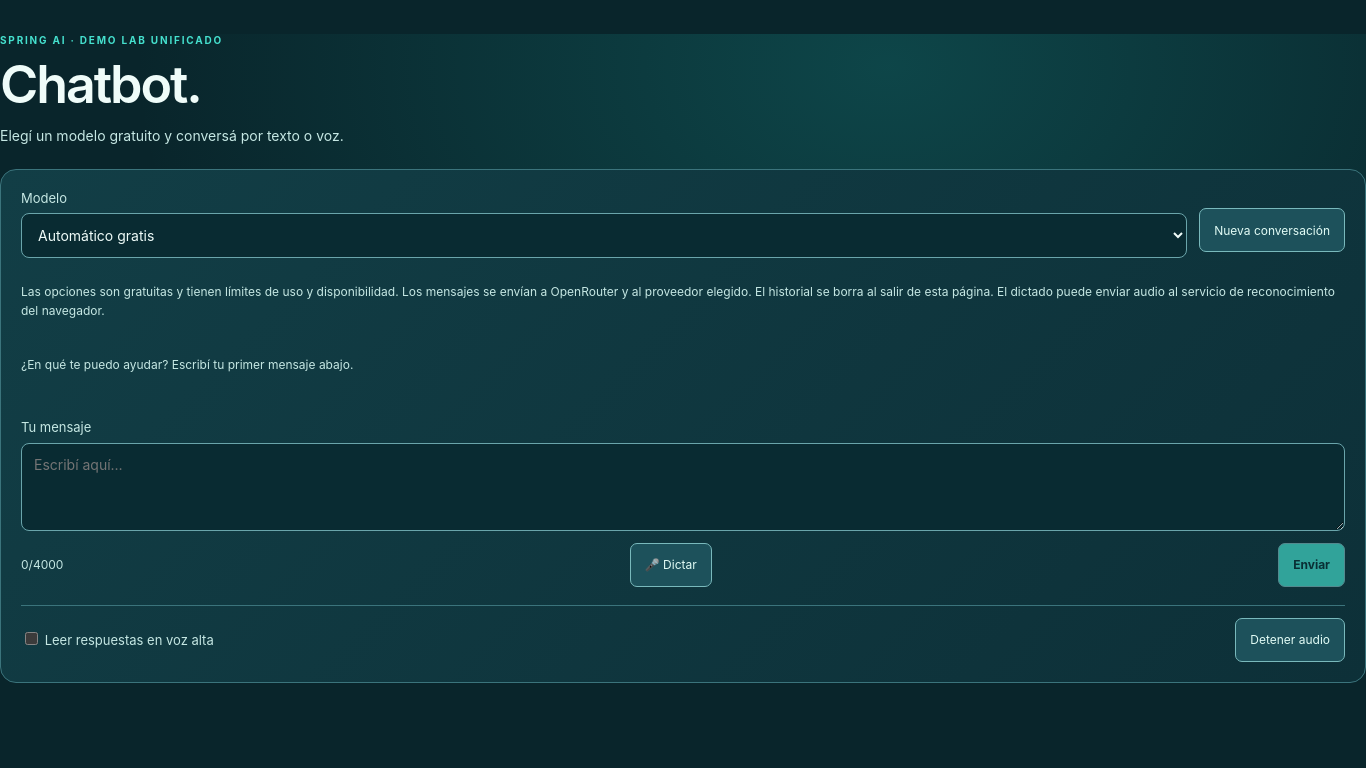
Test: dictates editable text, reads replies and cleans up voice
The image size is (1366, 768).
Click the button "🎤 Dictar" at x=671, y=565, box top-left (630, 543), bottom-right (712, 587)
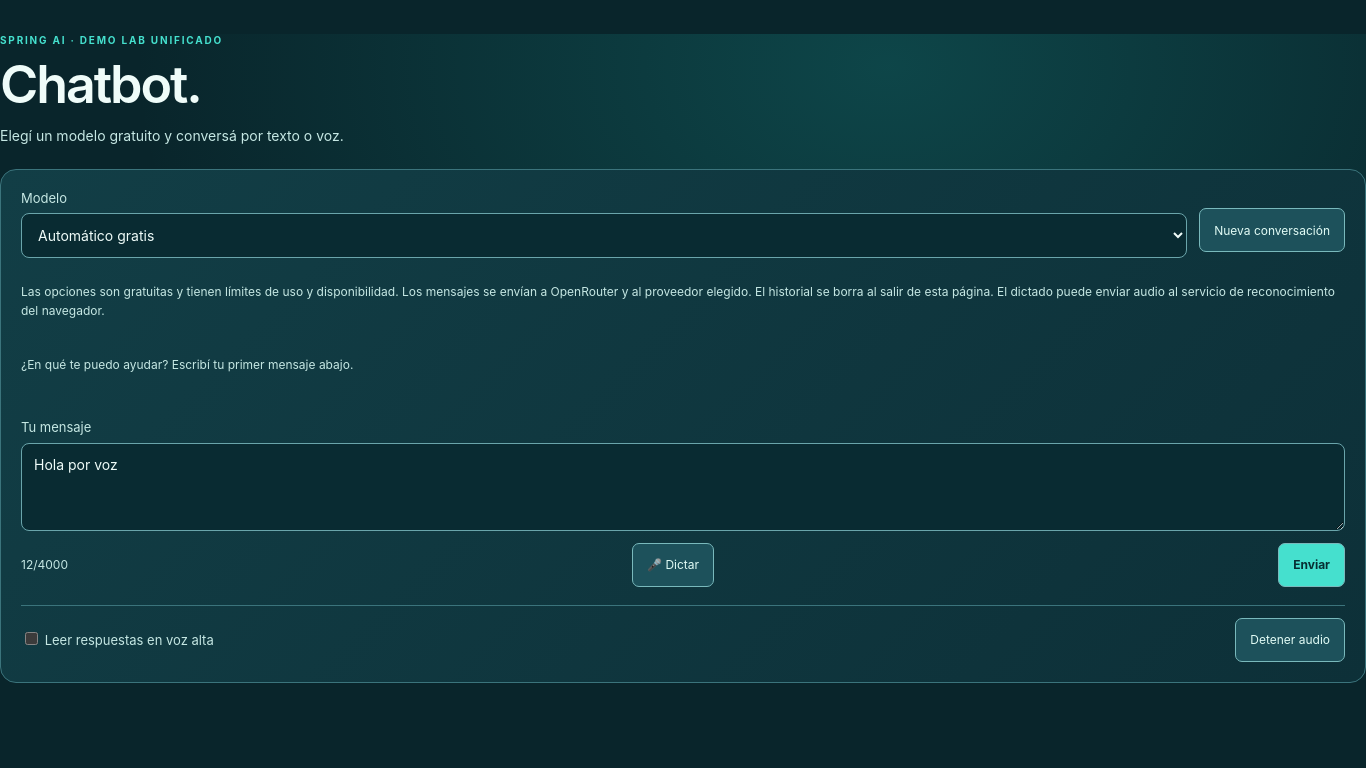
Now the text box labelled "Tu mensaje" holds "Hola por voz", box top-left (21, 443), bottom-right (1345, 531)
Click the checkbox labelled "Leer respuestas en voz alta" at x=32, y=638, box top-left (25, 632), bottom-right (38, 645)
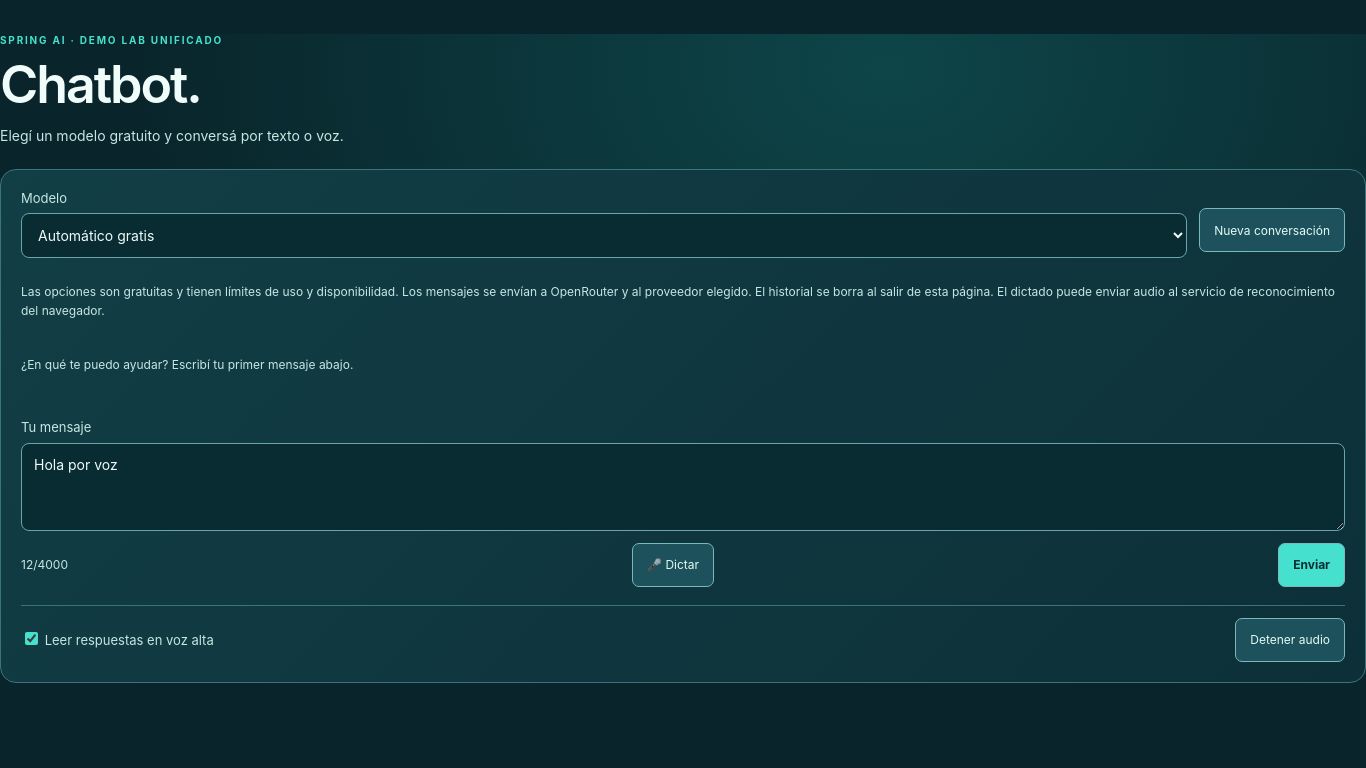
Click the button "Enviar" at x=1312, y=565, box top-left (1278, 543), bottom-right (1345, 587)
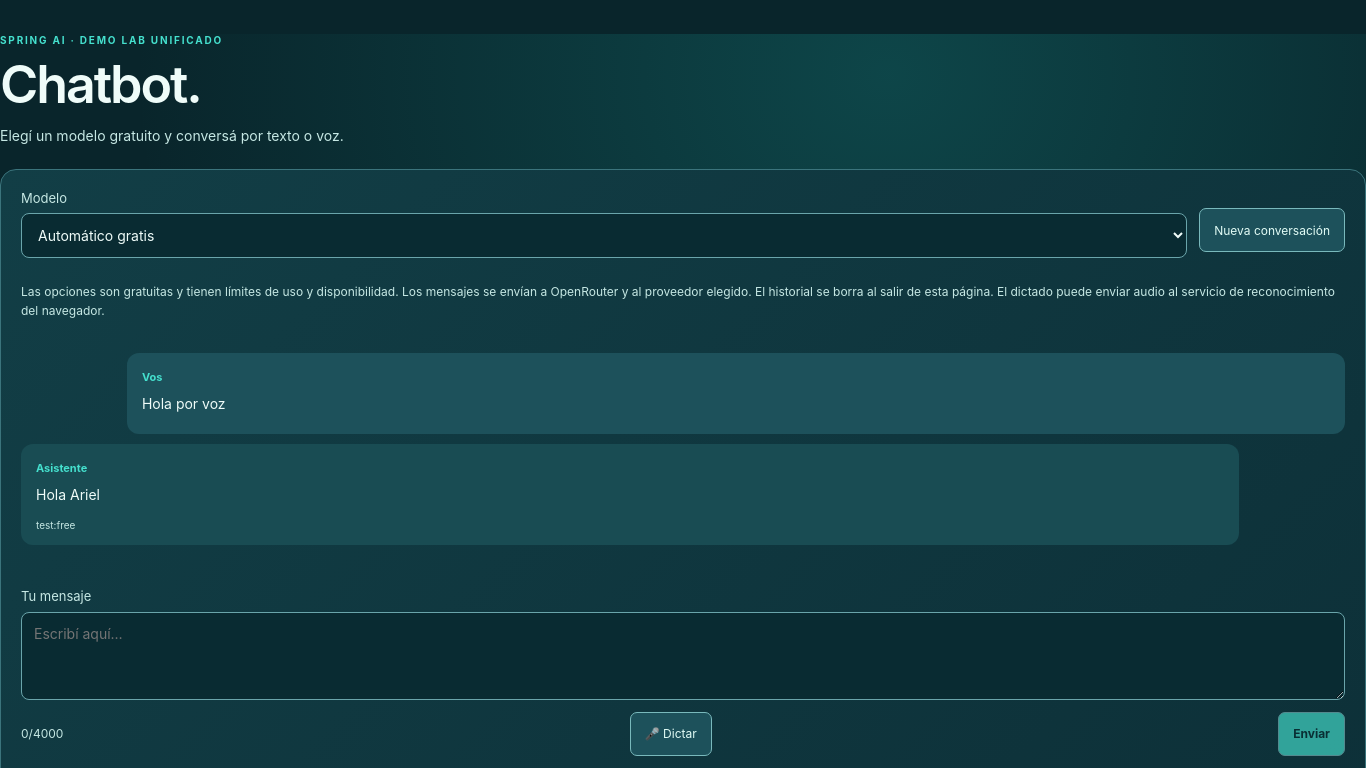
Now the text "Hola Ariel" is shown, box top-left (36, 486), bottom-right (100, 503)
